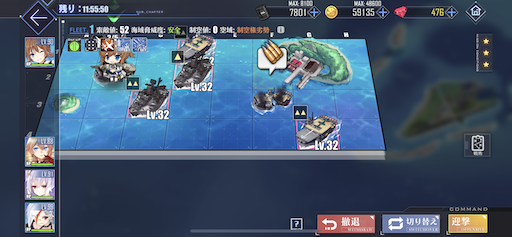lv1: (170, 52, 213, 91)
lv2: (292, 107, 341, 149), (170, 52, 213, 91), (126, 78, 168, 117)
